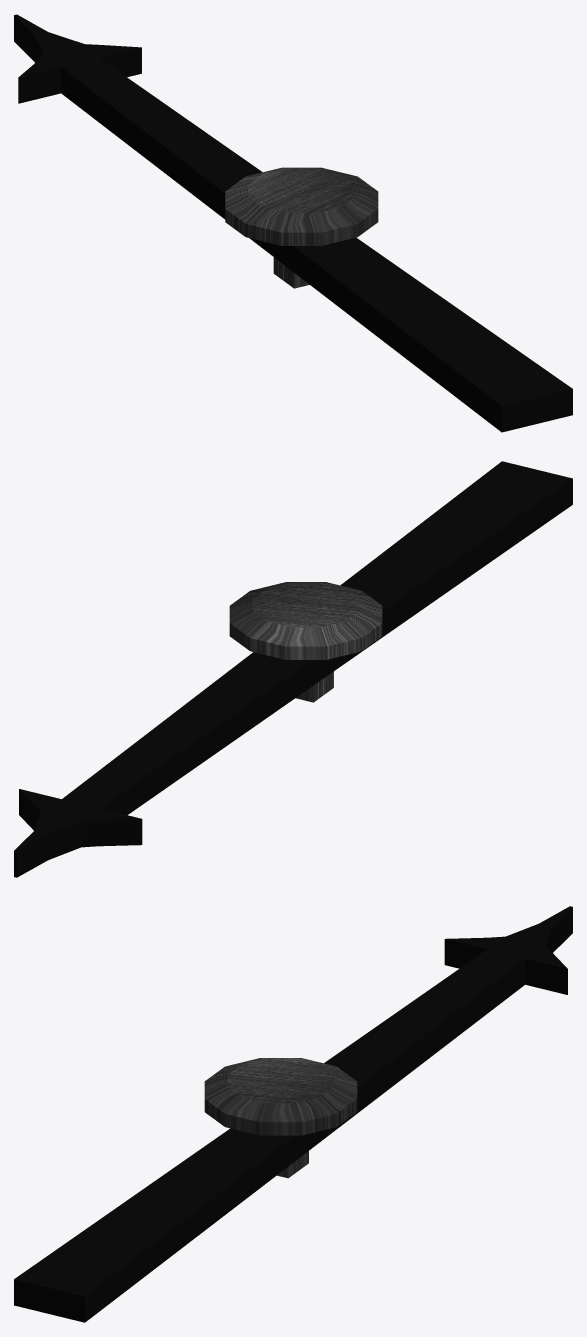
File: aiguille.dae
The picture shows the model from 3 angles, top to bottom: view 1: azimuth 30°, elevation 25°; view 2: azimuth 150°, elevation 25°; view 3: azimuth 330°, elevation 25°; orthographic projection.
Visible parts, largest first — view 1: fleche.001, Cylinder; view 2: fleche.001, Cylinder; view 3: fleche.001, Cylinder.
Boxes of the visible parts, bbox=[...] form: fleche.001: bbox=[14, 14, 572, 432]; Cylinder: bbox=[225, 167, 378, 288]; fleche.001: bbox=[14, 461, 572, 877]; Cylinder: bbox=[229, 582, 382, 702]; fleche.001: bbox=[14, 906, 572, 1322]; Cylinder: bbox=[204, 1058, 357, 1178].
Size of the model in its own units: 0.6761 by 4.62 by 0.4195.
Materials: 2 (1 with a texture image).
